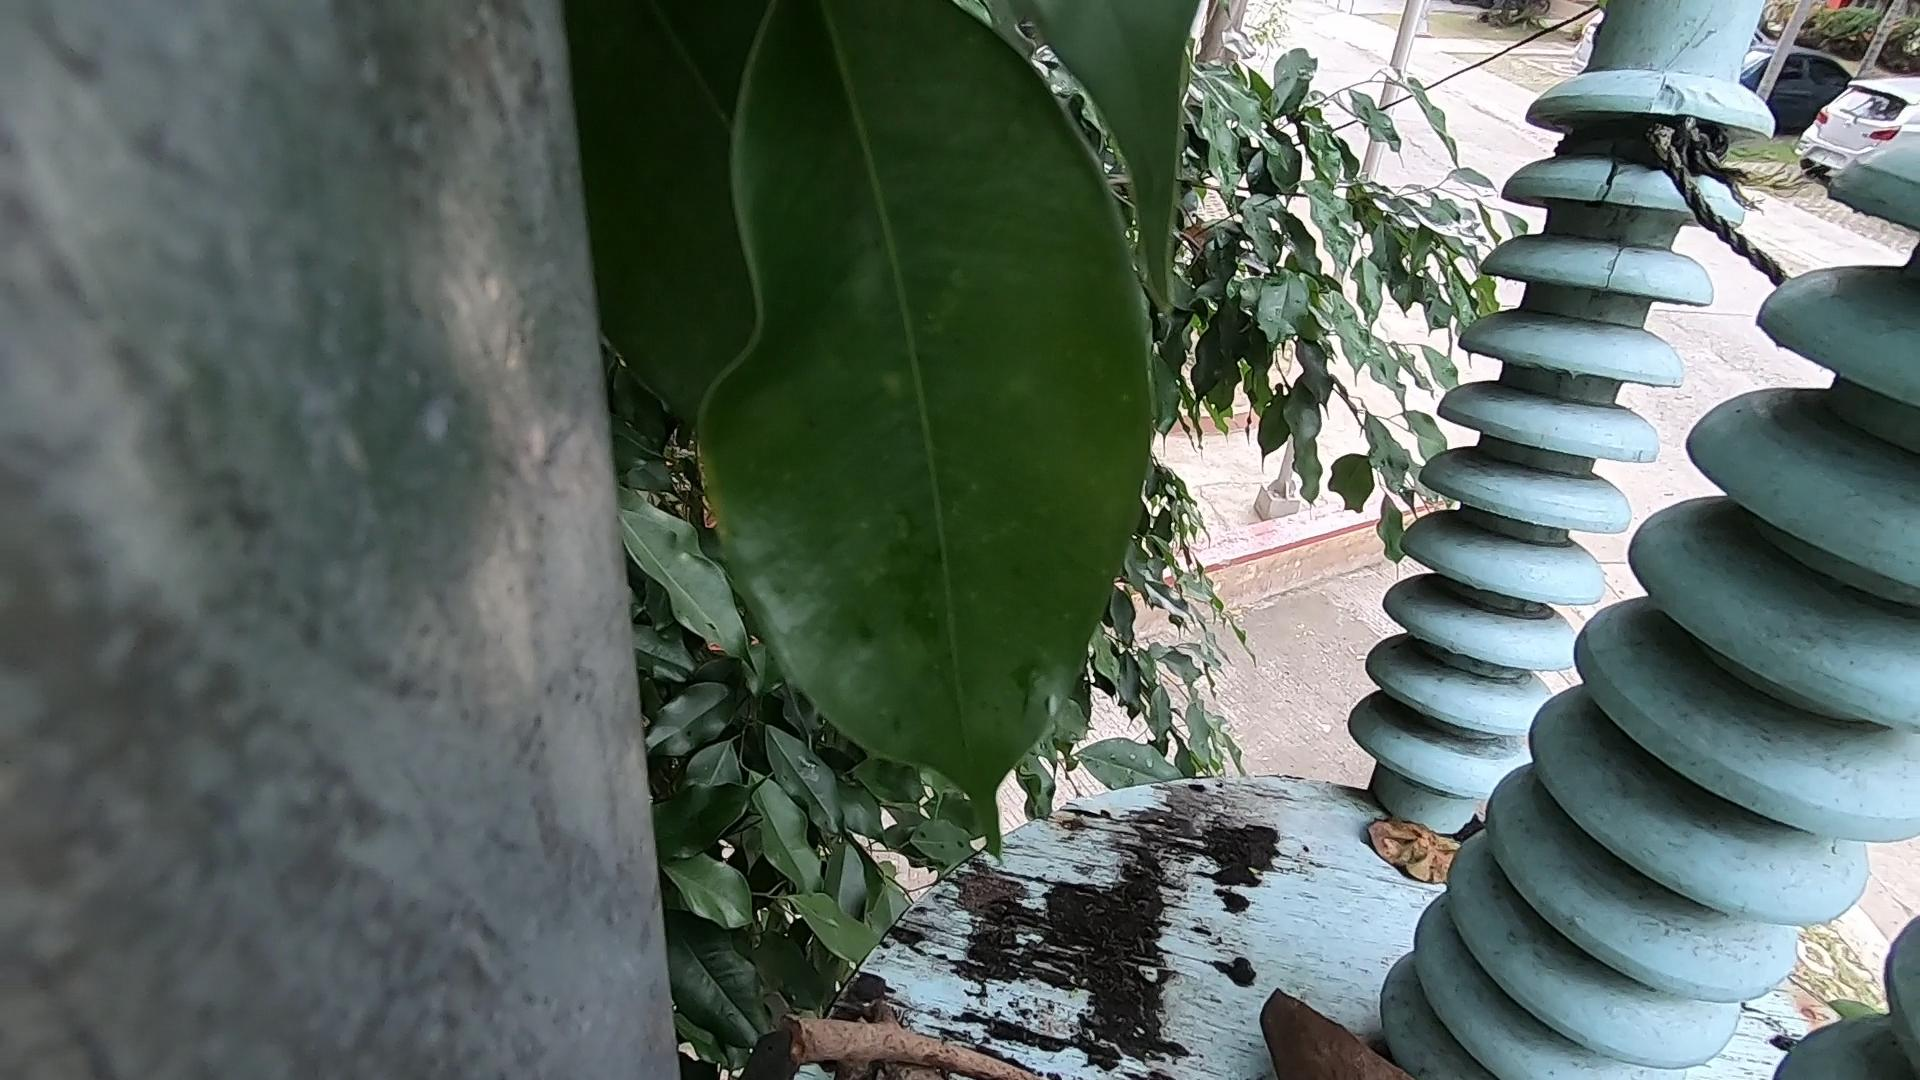leaf: (1323, 794, 1503, 913)
mahogany fruit: (1197, 961, 1367, 1080)
tree branch: (758, 948, 1009, 1080)
